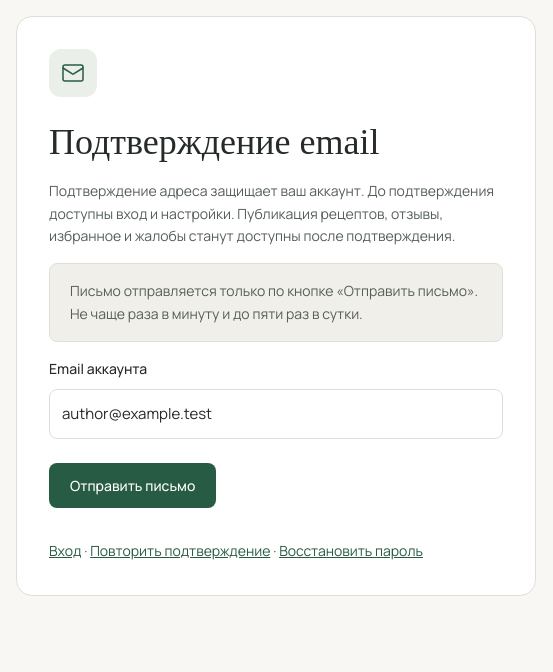
не отправляет письмо при открытии, отправляет по кнопке и сохраняет задержку
Later steps or results of the test are not shown.
Click the button "Отправить письмо" at (133, 485), box left=49, top=462, right=216, bottom=508
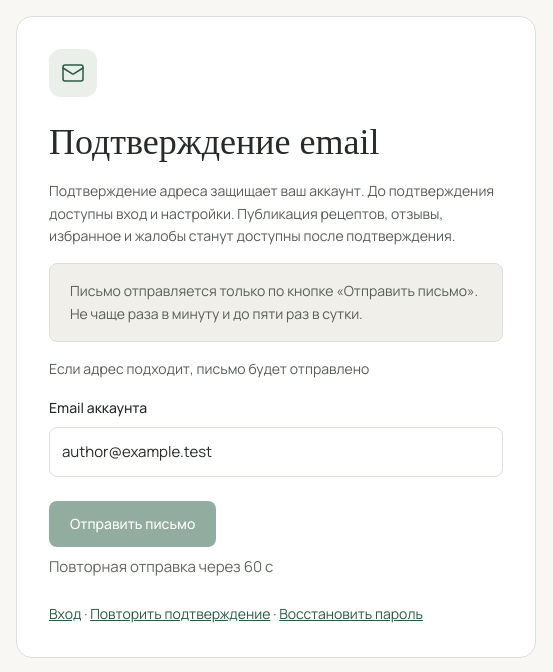
Now the button "Отправить письмо" is disabled, box left=49, top=501, right=216, bottom=546
